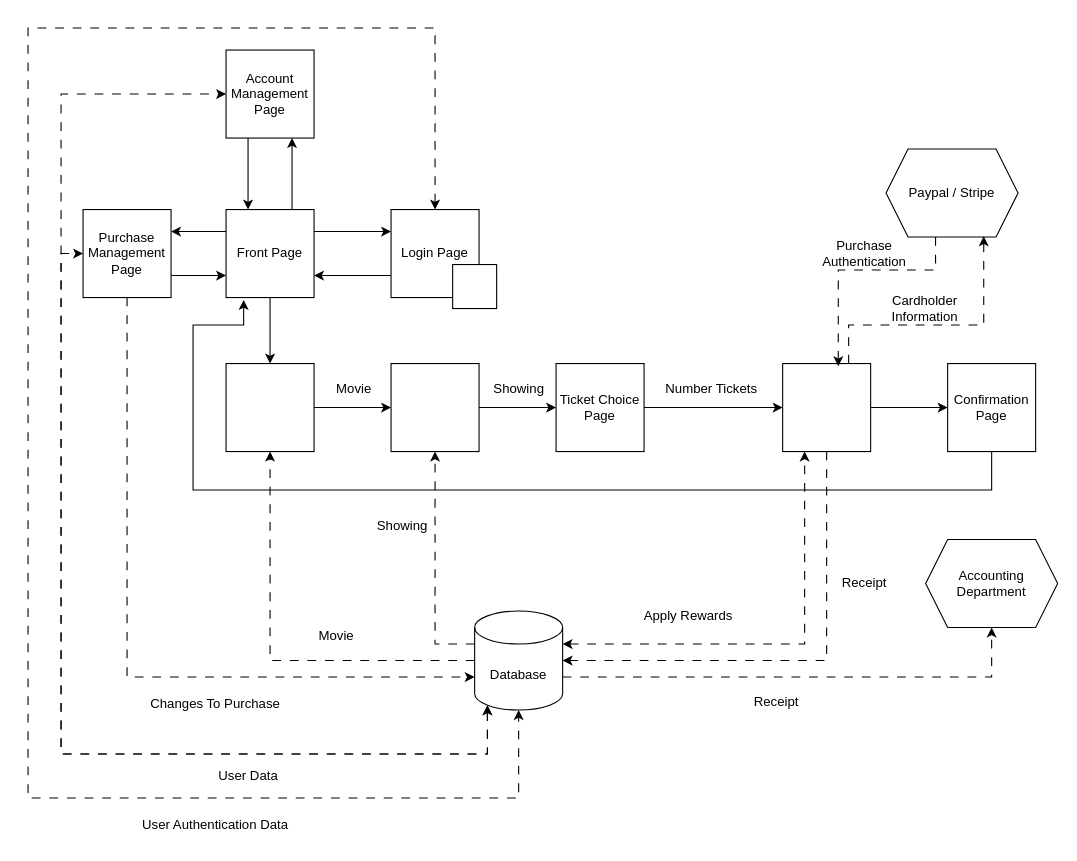
Some shapes in this 1077 by 861 pixel diagram are drawn without their labels. Here are the shapes that lost their labels. From the top down, the box of each, then its label:
(452, 263, 497, 309): Sign Up
(225, 362, 314, 452): Movie Search Page
(390, 362, 479, 452): Movie Showing Selection Page
(782, 362, 871, 452): Pay Page
